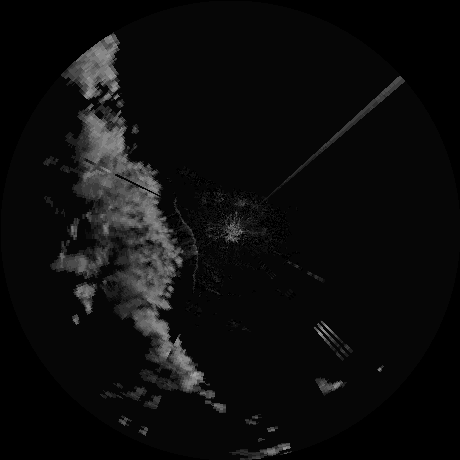frontgust: (189, 239, 202, 292), (175, 199, 193, 236)
